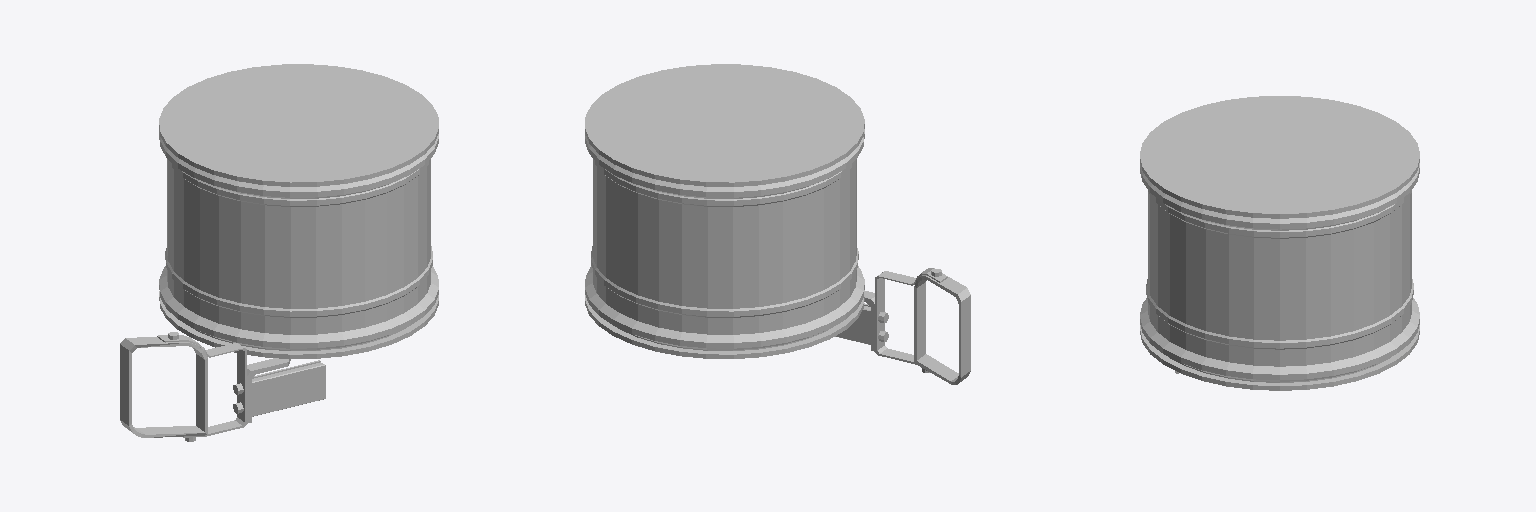
Rendered from GrenadeLauncherMagazine.obj.
3 renders of one model, left to right at view 1: azimuth 30°, elevation 25°; view 2: azimuth 150°, elevation 25°; view 3: azimuth 270°, elevation 25°, orthographic.
Parts seen in each view (by area): view 1: DrumMag:15; view 2: DrumMag:15; view 3: DrumMag:15.
Part boxes in pixels (x1,y1,x2,y2): DrumMag:15: (120, 64, 438, 441); DrumMag:15: (585, 64, 970, 384); DrumMag:15: (1140, 96, 1419, 390).
Size of the model in its own units: 16.74 by 11.86 by 12.35.